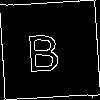B: (25, 25, 61, 72)
